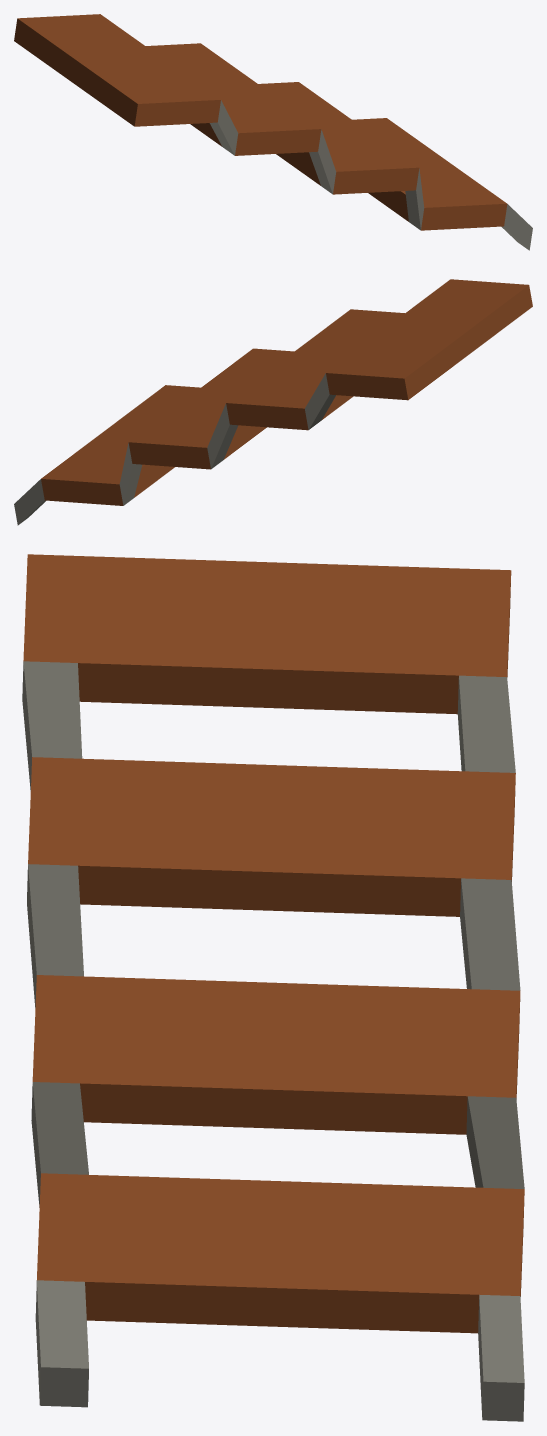
The model's file is testeponte.fbx.
3 renders of one model, top to bottom at view 1: azimuth 30°, elevation 25°; view 2: azimuth 150°, elevation 25°; view 3: azimuth 270°, elevation 25°, orthographic. The views are drawn at different scales.
Parts seen in each view (by area): view 1: Cube; view 2: Cube; view 3: Cube.
Boxes of the visible parts, bbox=[...] form: Cube: bbox=[14, 14, 532, 250]; Cube: bbox=[14, 279, 532, 525]; Cube: bbox=[22, 554, 524, 1421].
Bounding box in the file's own units: 304 × 180 × 168.
